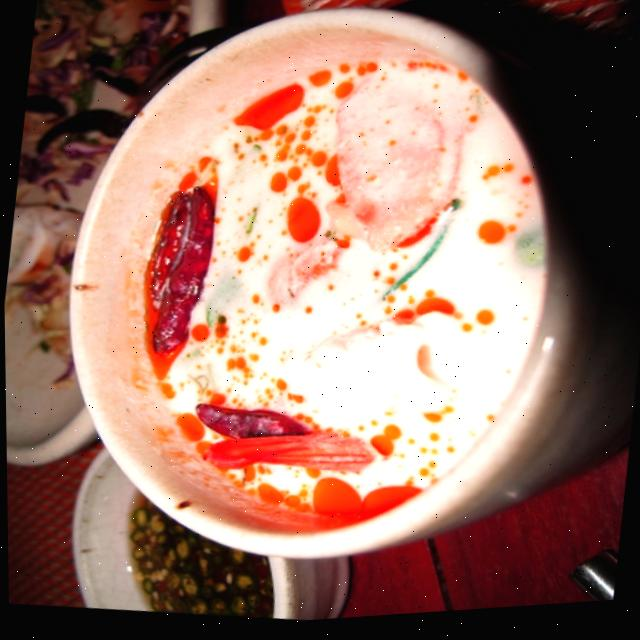汤锅炖物: (24, 0, 631, 620)
